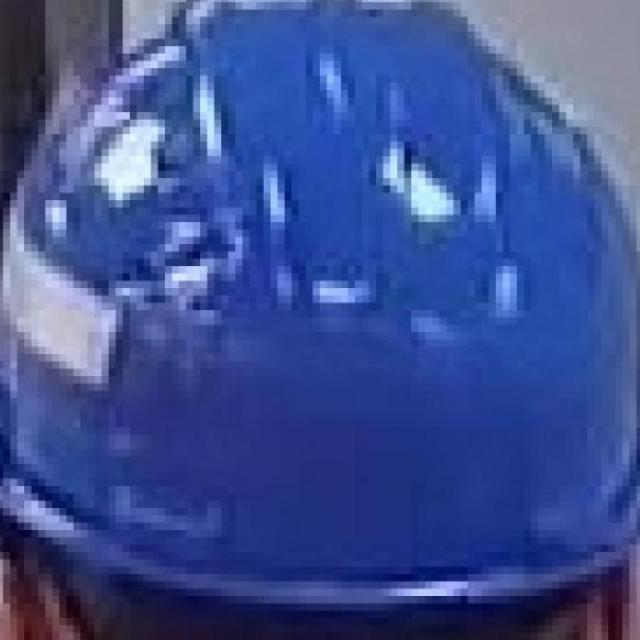blue helmet: (6, 1, 635, 609)
